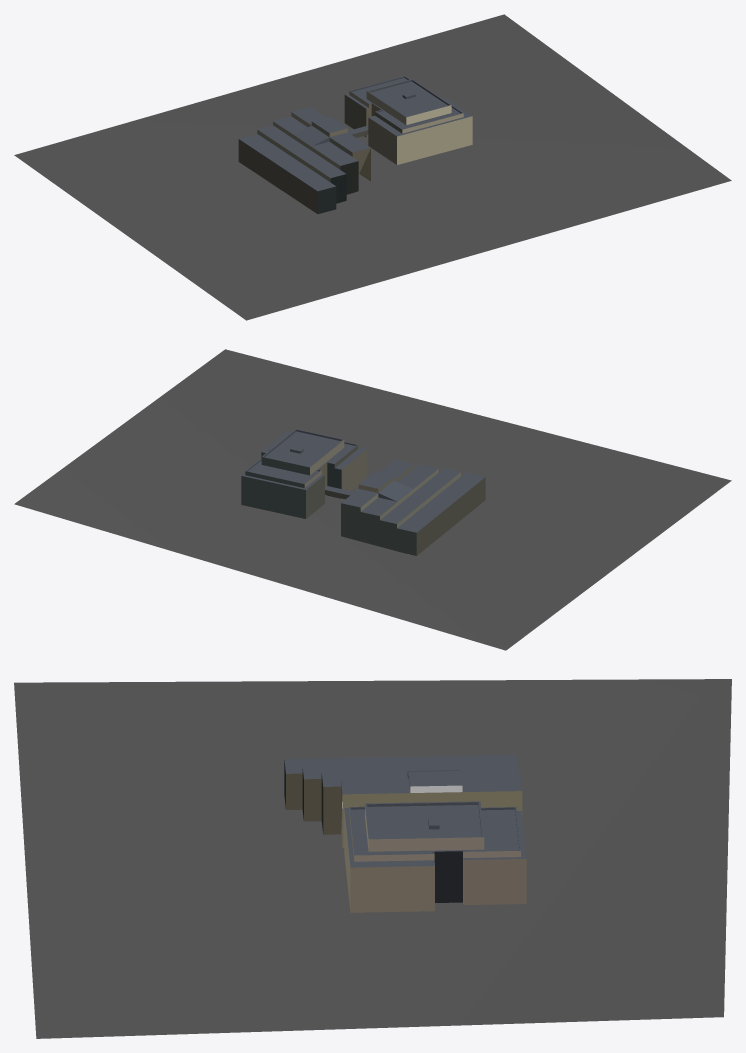
Rendered from unum-provident.glb.
3 renders of one model, top to bottom at view 1: azimuth 30°, elevation 25°; view 2: azimuth 150°, elevation 25°; view 3: azimuth 270°, elevation 25°, orthographic. The views are drawn at different scales.
Parts seen in each view (by area): view 1: LOD0; view 2: LOD0; view 3: LOD0.
Boxes of the visible parts, x1,y1,x2,y2 form: LOD0: (14, 14, 731, 320); LOD0: (14, 349, 731, 650); LOD0: (14, 679, 731, 1038).
Size of what is drawn, in the model's own units: 479 by 51.84 by 379.
Materials: 2 (2 with a texture image).
